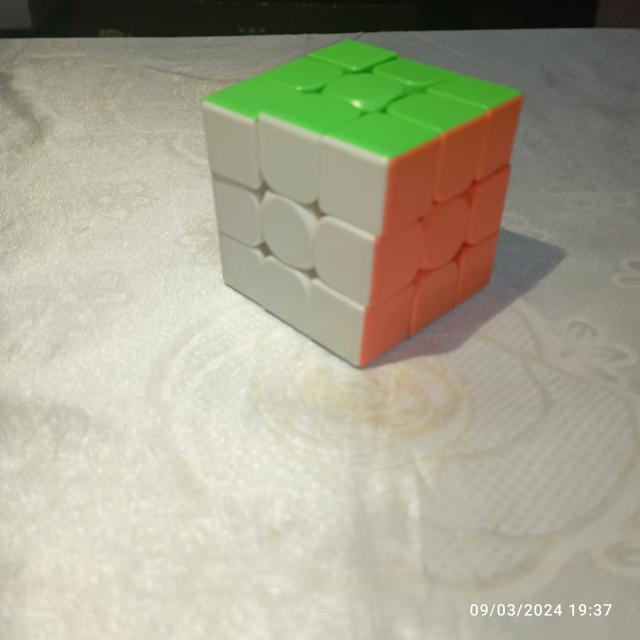Rub: (197, 35, 529, 373)
